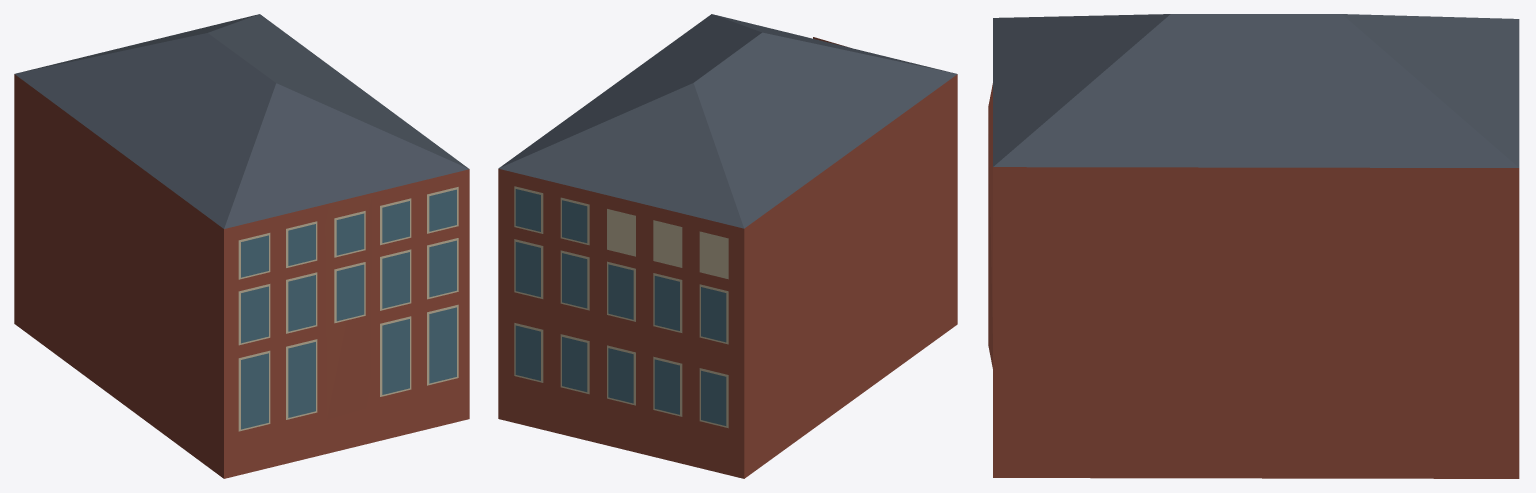
Rendered from canals-museum.lod2.glb.
The picture shows the model from 3 angles, left to right: view 1: azimuth 30°, elevation 25°; view 2: azimuth 150°, elevation 25°; view 3: azimuth 270°, elevation 25°; orthographic projection. The views are drawn at different scales.
Parts seen in each view (by area): view 1: lod2; view 2: lod2; view 3: lod2.
Boxes of the visible parts, x1,y1,x2,y2 form: lod2: (14, 14, 469, 478); lod2: (498, 14, 957, 478); lod2: (988, 14, 1519, 478).
Size of the model in its own units: 14.71 by 17.81 by 22.17.
